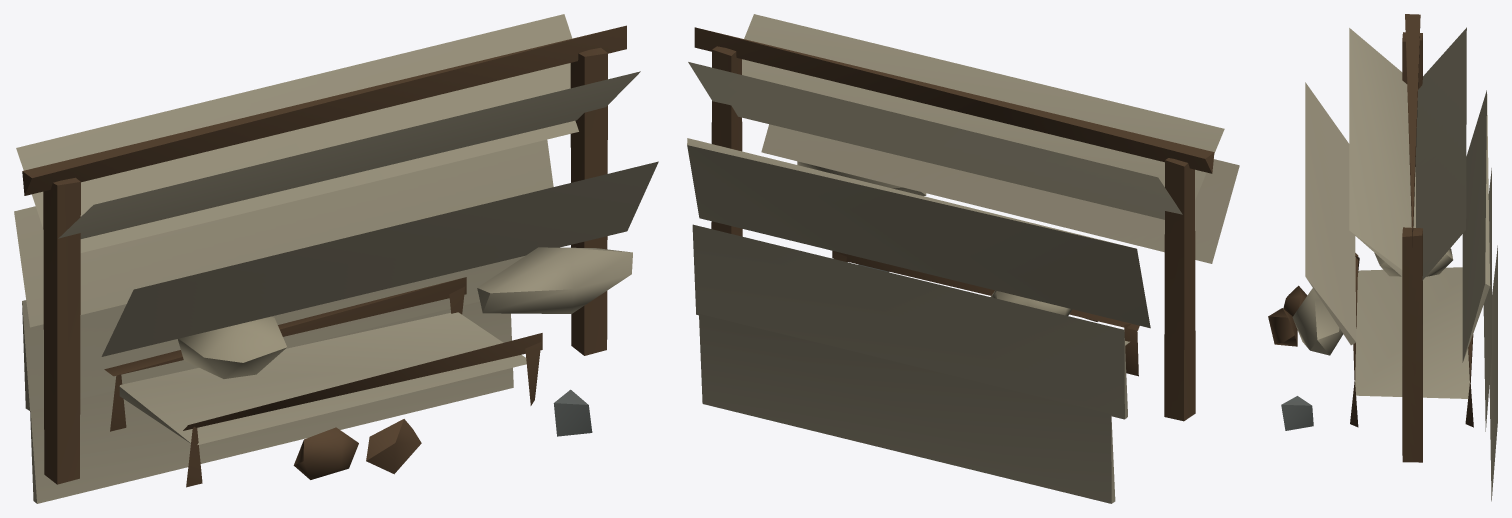
The model's file is bunk_cots_b_lod2.glb.
3 renders of one model, left to right at view 1: azimuth 30°, elevation 25°; view 2: azimuth 150°, elevation 25°; view 3: azimuth 270°, elevation 25°, orthographic. The views are drawn at different scales.
Visible parts, largest first — view 1: Surface.001; view 2: Surface.001; view 3: Surface.001.
Boxes of the visible parts, x1=… form: Surface.001: x1=14, y1=14, x2=658, y2=503; Surface.001: x1=687, y1=14, x2=1239, y2=503; Surface.001: x1=1268, y1=14, x2=1497, y2=501.
Size of the model in its own units: 3.2 by 1.96 by 1.39.
